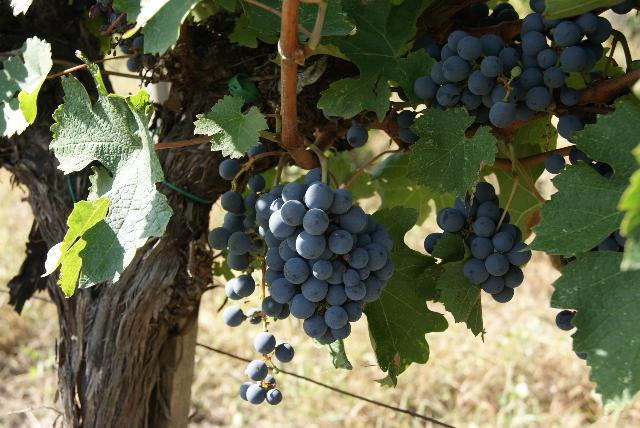grapes: (412, 11, 622, 210), (255, 169, 395, 345), (436, 182, 531, 302), (209, 191, 289, 328), (239, 326, 294, 405)
